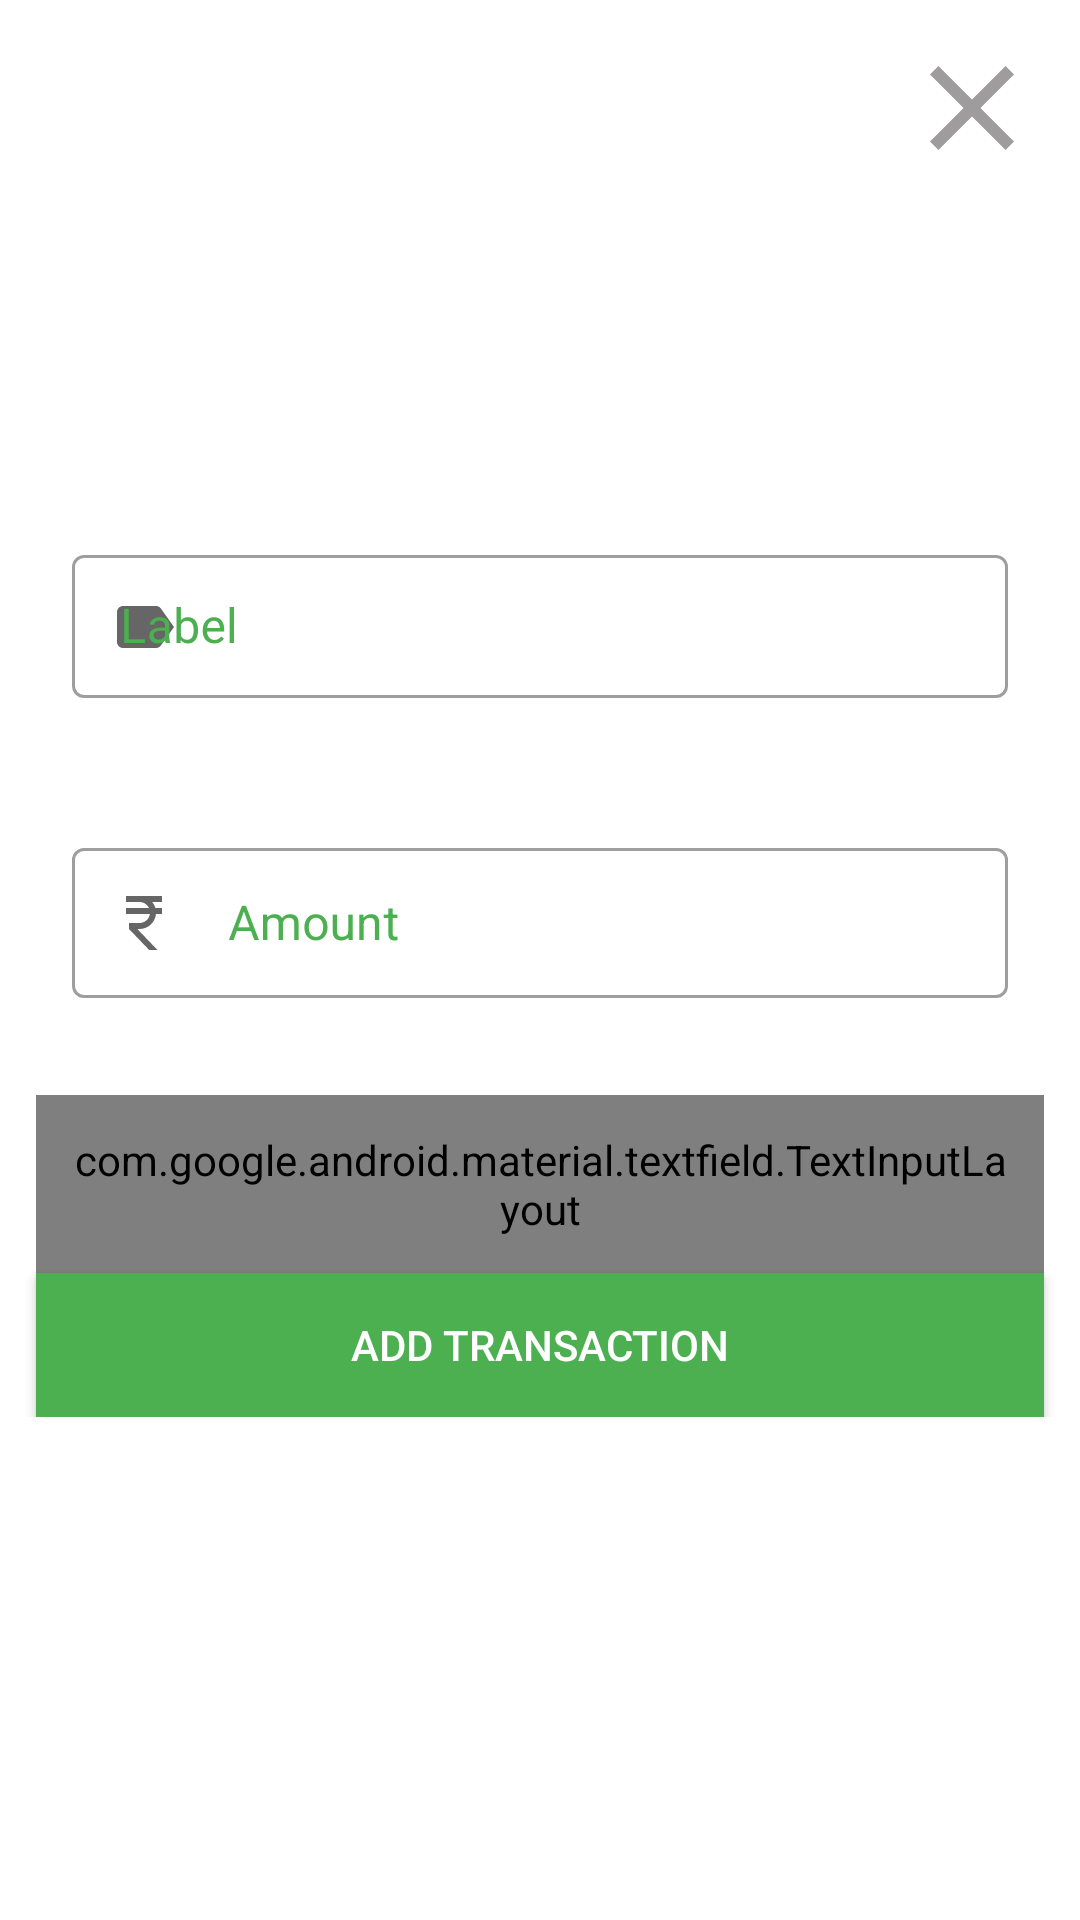

Icon bounding boxes for this 1080px×1920px phone screenshot, format region(x1, y1, x2, y2):
close: region(930, 66, 1014, 150)
